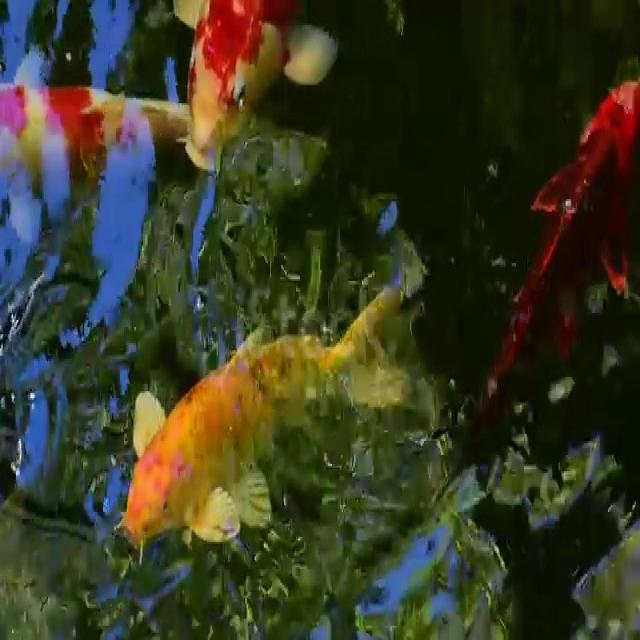fish: (104, 271, 423, 569), (488, 75, 640, 324), (166, 0, 345, 181)
